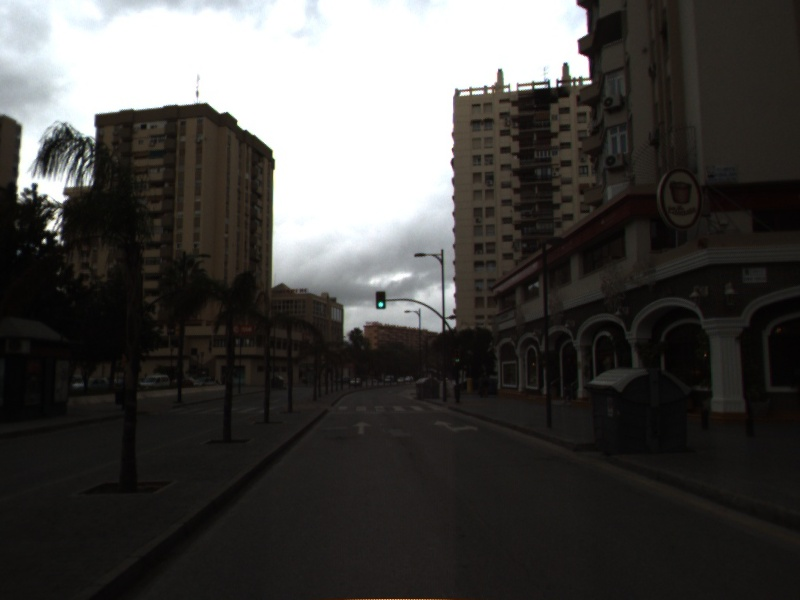STRAIGHT: (350, 419, 375, 437)
STRAIGHT_RIGHT: (431, 417, 481, 434)
